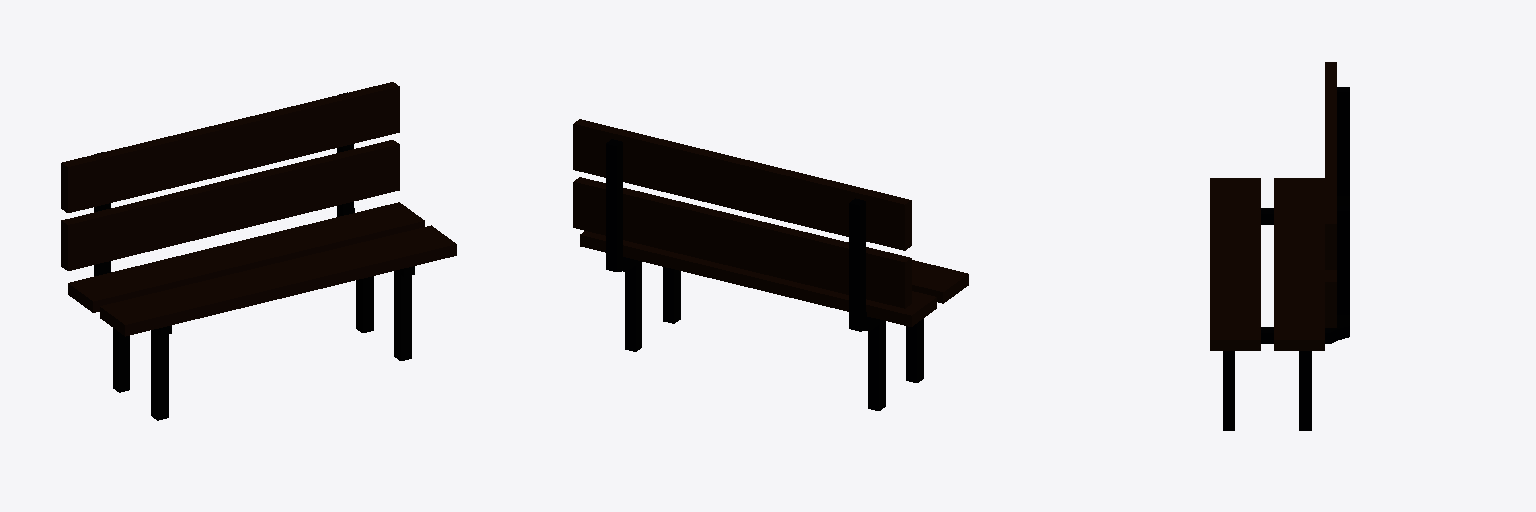
Rendered from bench.obj.
The picture shows the model from 3 angles: view 1: azimuth 30°, elevation 25°; view 2: azimuth 150°, elevation 25°; view 3: azimuth 270°, elevation 25°; orthographic projection.
Parts seen in each view (by area): view 1: bench; view 2: bench; view 3: bench.
Boxes of the visible parts, x1,y1,x2,y2 form: bench: [61, 82, 456, 420]; bench: [573, 119, 968, 410]; bench: [1210, 62, 1349, 430].
Size of the model in its own units: 7.5 by 4.88 by 2.75.